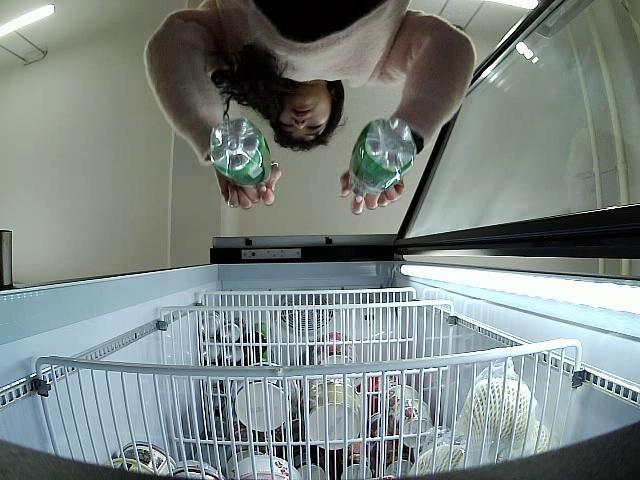18_trevi: (349, 118, 416, 196), (210, 118, 272, 186)
